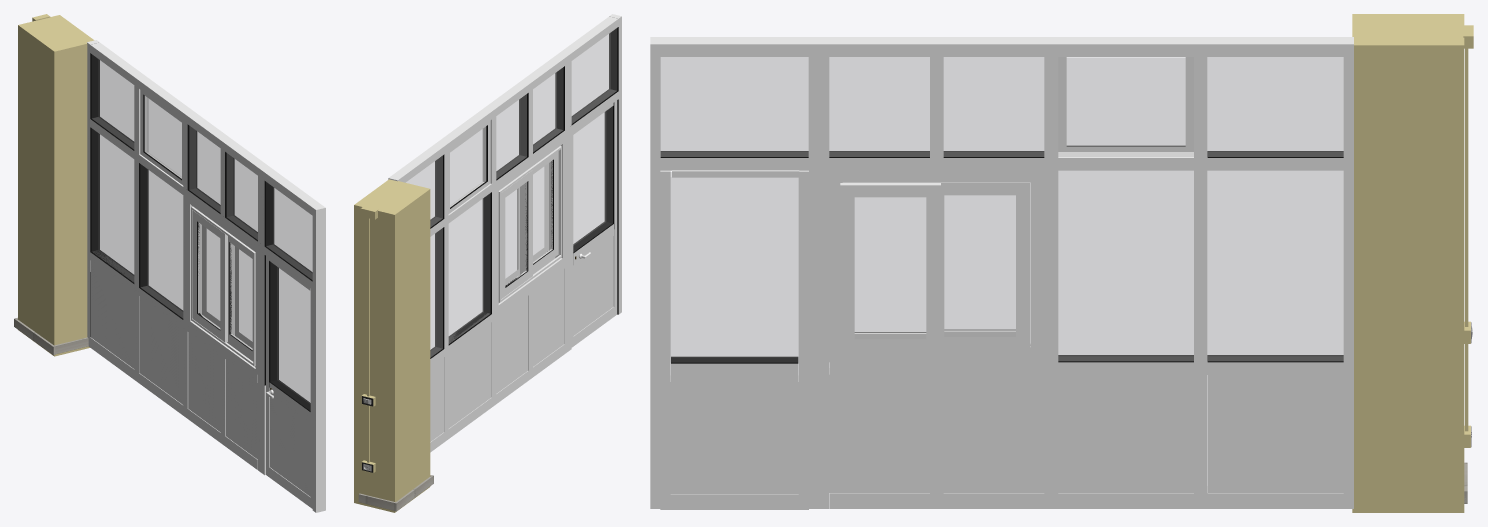
Rendered from paretefinestratavetrina.gltf.
The picture shows the model from 3 angles, left to right: view 1: azimuth 30°, elevation 25°; view 2: azimuth 150°, elevation 25°; view 3: azimuth 270°, elevation 25°; orthographic projection. The views are drawn at different scales.
Parts seen in each view (by area): view 1: Infissi Finestrati Dx Struttura, Porta Parete, Porta Corridoio, Vetro Alta 2 Infissi Finestrati Dx, Vetro Alta 1 Infissi Finestrati Dx, Vetro Alta 3 Infissi Finestrati Dx, Vetro Corto 5 Infissi Finestrati Dx, Vetro Corto 2 Infissi Finestrati Dx, Vetro Alta 4 Infissi Finestrati Dx, Vetro Corto 1 Infissi Finestrati Dx, Vetro Corto 3 Infissi Finestrati Dx, Vetro Corto 4 Infissi Finestrati Dx (+1 smaller); view 2: Infissi Finestrati Dx Struttura, Porta Parete, Porta Corridoio, Vetro Alta 2 Infissi Finestrati Dx, Vetro Alta 3 Infissi Finestrati Dx, Vetro Alta 4 Infissi Finestrati Dx, Vetro Corto 5 Infissi Finestrati Dx, Vetro Corto 2 Infissi Finestrati Dx, Vetro Corto 3 Infissi Finestrati Dx, Vetro Corto 4 Infissi Finestrati Dx, Vetro Alta 1 Infissi Finestrati Dx, Vetro Corto 1 Infissi Finestrati Dx (+2 smaller); view 3: Infissi Finestrati Dx Struttura, Porta Parete, Porta Corridoio, Vetro Alta 2 Infissi Finestrati Dx, Vetro Alta 1 Infissi Finestrati Dx, Vetro Alta 4 Infissi Finestrati Dx, Vetro Alta 3 Infissi Finestrati Dx, Vetro Corto 5 Infissi Finestrati Dx, Vetro Corto 2 Infissi Finestrati Dx, Vetro Corto 1 Infissi Finestrati Dx, Vetro Corto 4 Infissi Finestrati Dx, Vetro Corto 3 Infissi Finestrati Dx (+1 smaller).
Boxes of the visible parts, x1,y1,x2,y2 form: Infissi Finestrati Dx Struttura: (87, 40, 325, 512); Porta Parete: (18, 15, 94, 356); Porta Corridoio: (266, 256, 312, 508); Vetro Alta 2 Infissi Finestrati Dx: (140, 164, 182, 317); Vetro Alta 1 Infissi Finestrati Dx: (92, 129, 133, 281); Vetro Alta 3 Infissi Finestrati Dx: (192, 210, 234, 342); Vetro Corto 5 Infissi Finestrati Dx: (266, 182, 312, 279); Vetro Corto 2 Infissi Finestrati Dx: (140, 90, 183, 185); Vetro Alta 4 Infissi Finestrati Dx: (228, 236, 253, 359); Vetro Corto 1 Infissi Finestrati Dx: (92, 55, 133, 148); Vetro Corto 3 Infissi Finestrati Dx: (189, 126, 220, 212); Vetro Corto 4 Infissi Finestrati Dx: (227, 153, 257, 239); Infissi Finestrati Dx Struttura: (388, 14, 621, 452); Porta Parete: (354, 179, 430, 512); Porta Corridoio: (571, 100, 617, 347); Vetro Alta 2 Infissi Finestrati Dx: (449, 194, 490, 343); Vetro Alta 3 Infissi Finestrati Dx: (501, 170, 532, 299); Vetro Alta 4 Infissi Finestrati Dx: (517, 151, 558, 274); Vetro Corto 5 Infissi Finestrati Dx: (572, 28, 616, 123); Vetro Corto 2 Infissi Finestrati Dx: (448, 120, 490, 213); Vetro Corto 3 Infissi Finestrati Dx: (496, 94, 526, 178); Vetro Corto 4 Infissi Finestrati Dx: (533, 68, 563, 151); Vetro Alta 1 Infissi Finestrati Dx: (430, 228, 442, 357); Vetro Corto 1 Infissi Finestrati Dx: (406, 156, 442, 226); Infissi Finestrati Dx Struttura: (650, 37, 1353, 508); Porta Parete: (1352, 14, 1464, 512); Porta Corridoio: (660, 170, 808, 509); Vetro Alta 2 Infissi Finestrati Dx: (1058, 171, 1193, 360); Vetro Alta 1 Infissi Finestrati Dx: (1208, 171, 1343, 360); Vetro Alta 4 Infissi Finestrati Dx: (840, 182, 940, 352); Vetro Alta 3 Infissi Finestrati Dx: (939, 182, 1030, 349); Vetro Corto 5 Infissi Finestrati Dx: (661, 57, 808, 156); Vetro Corto 2 Infissi Finestrati Dx: (1058, 57, 1193, 156); Vetro Corto 1 Infissi Finestrati Dx: (1208, 57, 1343, 156); Vetro Corto 4 Infissi Finestrati Dx: (829, 57, 929, 156); Vetro Corto 3 Infissi Finestrati Dx: (944, 57, 1043, 156).
Size of the model in its own units: 0.4981 by 3.01 by 4.78.
9 materials, 1 textured.
